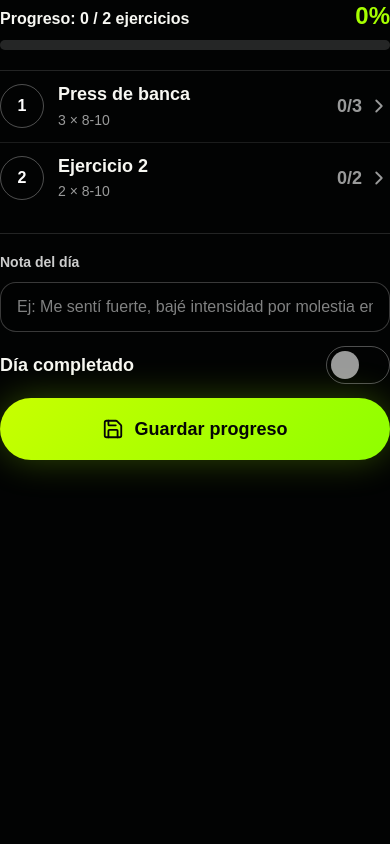
Test: DailyLogForm exercise list and sheet › closing the mobile sheet keeps the logged progress
Click the button named "Ejercicio 2," at (22, 178), box [0, 142, 389, 213]
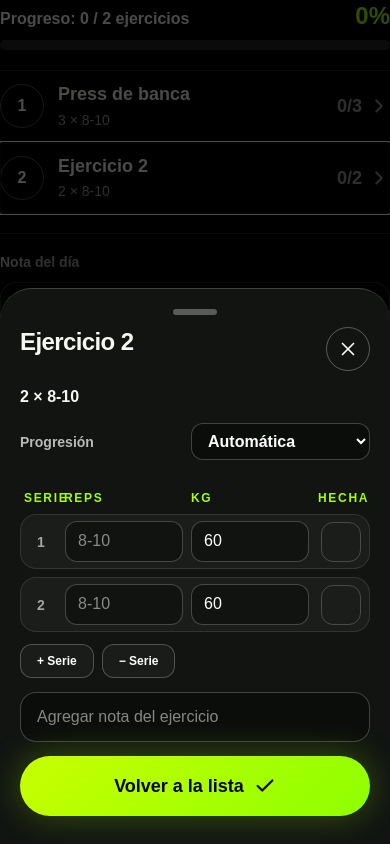
Click the 1st checkbox labelled "✓" at (341, 542), box [321, 522, 361, 562]
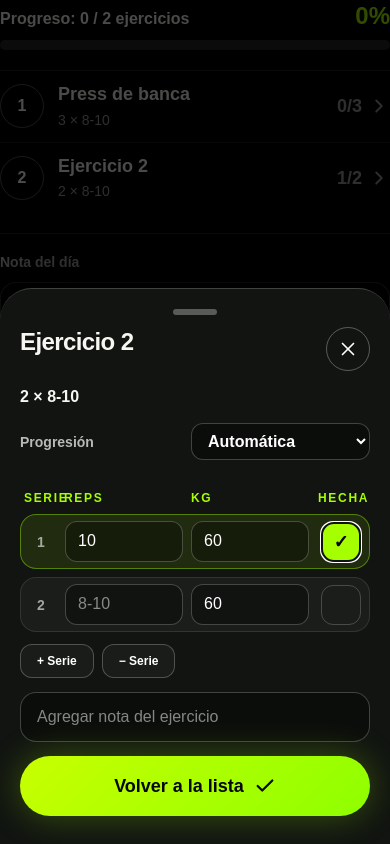
Click the button named "Cerrar" at (348, 349), box [326, 327, 370, 371]
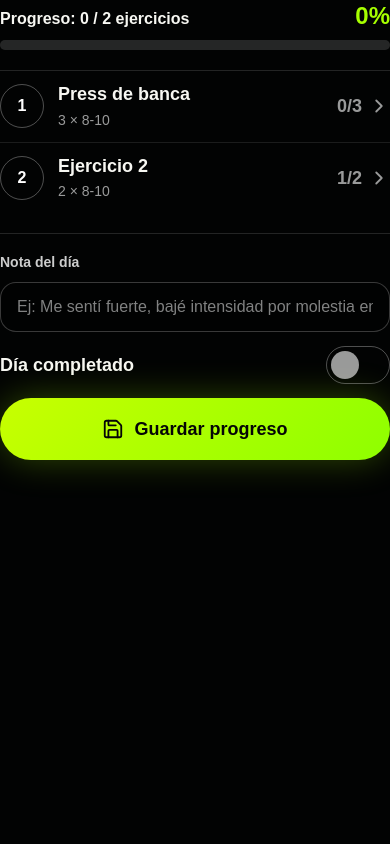
Check: the button named "Ejercicio 2," shows "1/2", box [0, 142, 389, 213]
Check: the dialog is gone
